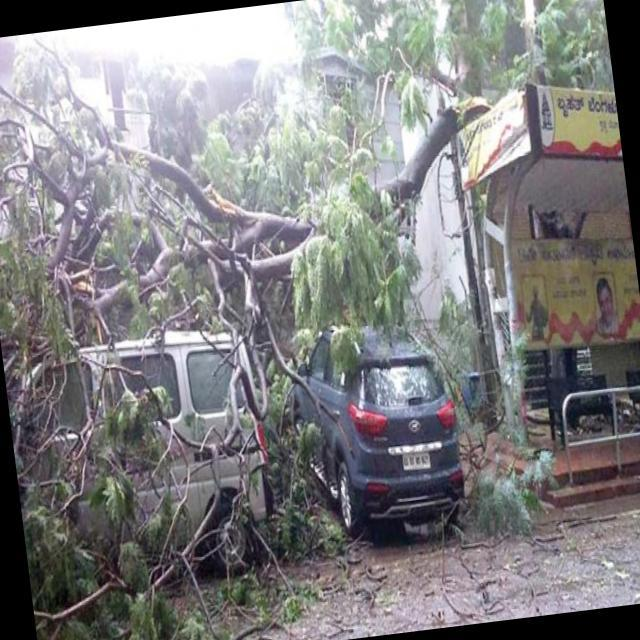fallen_object: (0, 46, 532, 357)
